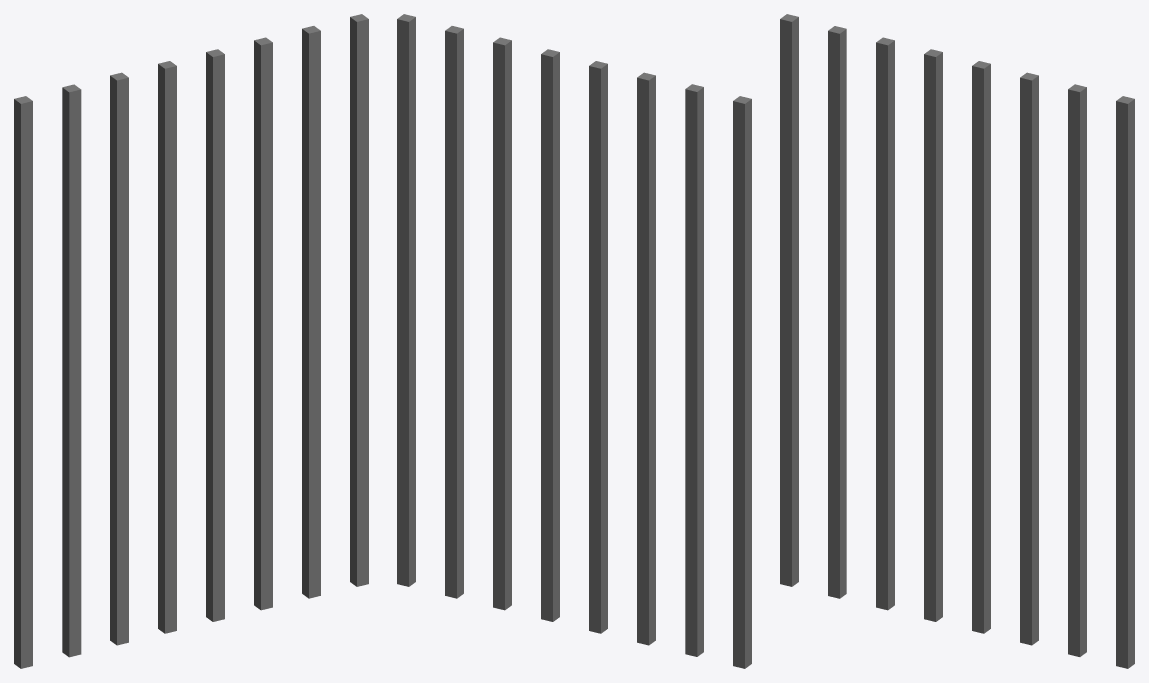
Rendered from wool Cage.fbx.
The picture shows the model from 3 angles, left to right: view 1: azimuth 30°, elevation 25°; view 2: azimuth 150°, elevation 25°; view 3: azimuth 330°, elevation 25°; orthographic projection.
Visible parts, largest first — view 1: 立方体.003, 立方体, 立方体.010, 立方体.004, 立方体.008, 立方体.009, 立方体.005, 立方体.006; view 2: 立方体, 立方体.010, 立方体.003, 立方体.004, 立方体.008, 立方体.009, 立方体.005, 立方体.006; view 3: 立方体, 立方体.010, 立方体.003, 立方体.004, 立方体.008, 立方体.009, 立方体.005, 立方体.006.
Part boxes in pixels (x1=…): 立方体.003: x1=62, y1=84, x2=81, y2=657; 立方体: x1=14, y1=96, x2=32, y2=668; 立方体.010: x1=350, y1=14, x2=368, y2=586; 立方体.004: x1=110, y1=72, x2=128, y2=645; 立方体.008: x1=254, y1=37, x2=272, y2=610; 立方体.009: x1=302, y1=26, x2=320, y2=598; 立方体.005: x1=158, y1=61, x2=176, y2=633; 立方体.006: x1=206, y1=49, x2=224, y2=621; 立方体: x1=733, y1=96, x2=751, y2=668; 立方体.010: x1=397, y1=14, x2=415, y2=586; 立方体.003: x1=685, y1=84, x2=703, y2=656; 立方体.004: x1=637, y1=72, x2=655, y2=645; 立方体.008: x1=493, y1=37, x2=511, y2=610; 立方体.009: x1=445, y1=26, x2=463, y2=598; 立方体.005: x1=589, y1=61, x2=607, y2=633; 立方体.006: x1=541, y1=49, x2=559, y2=621; 立方体: x1=780, y1=14, x2=798, y2=586; 立方体.010: x1=1116, y1=96, x2=1134, y2=668; 立方体.003: x1=828, y1=26, x2=846, y2=598; 立方体.004: x1=876, y1=37, x2=894, y2=610; 立方体.008: x1=1020, y1=72, x2=1038, y2=645; 立方体.009: x1=1068, y1=84, x2=1086, y2=656; 立方体.005: x1=924, y1=49, x2=942, y2=621; 立方体.006: x1=972, y1=61, x2=990, y2=633.
Bounding box in the file's own units: 58 × 90 × 2.06.
Materials: 1 (1 with a texture image).
